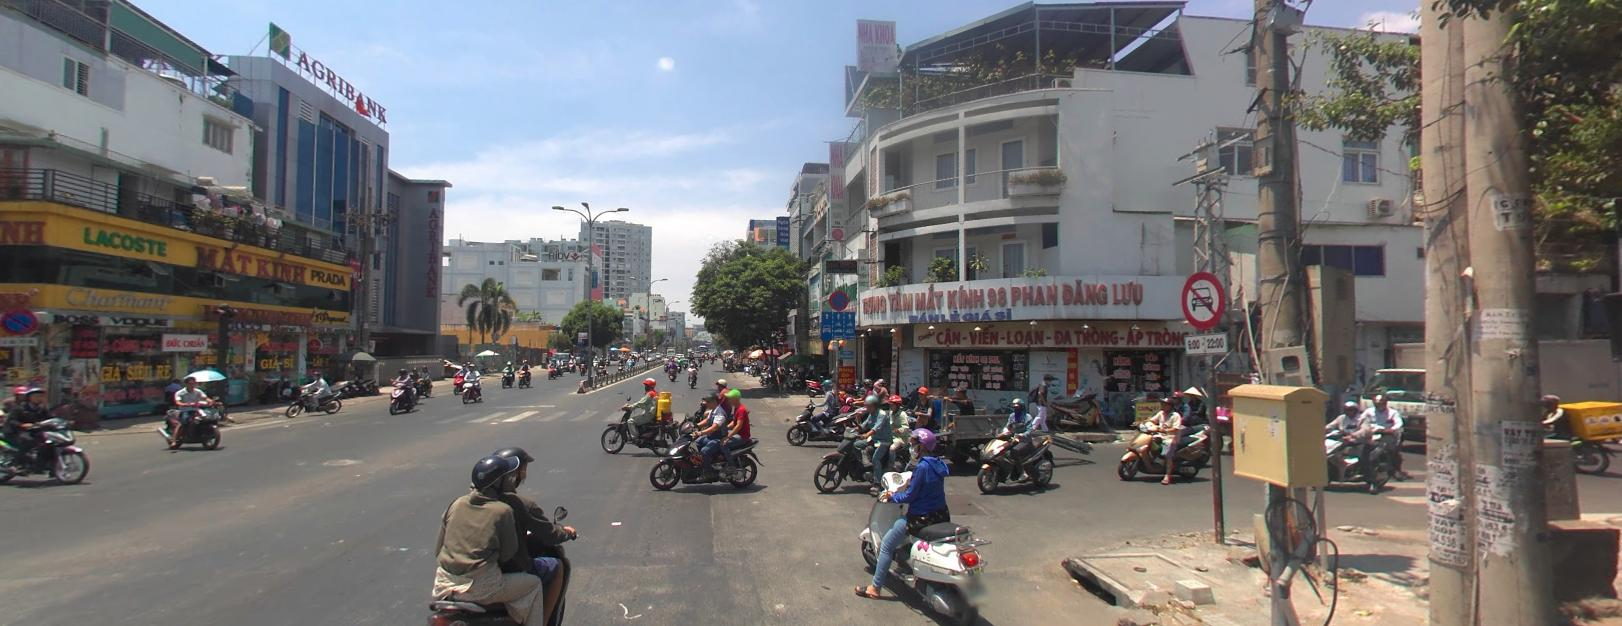Cam con lai: (1180, 267, 1226, 329)
Cam dung va do: (0, 305, 36, 335), (828, 288, 849, 308)
